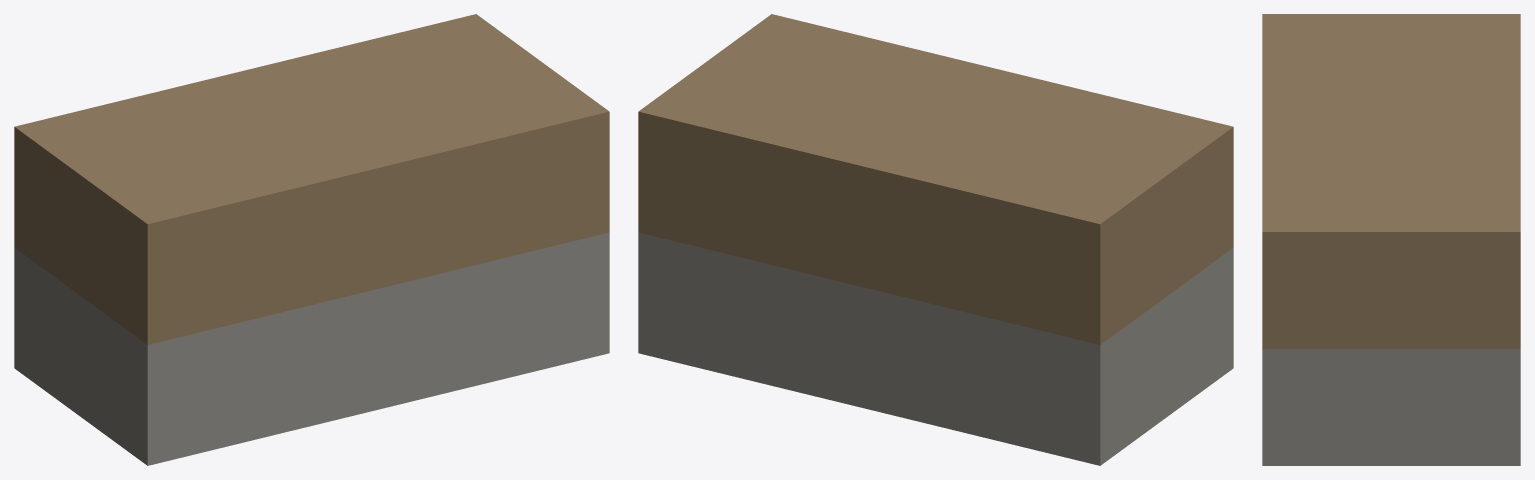
The model's file is tijeras_podar_01.glb.
3 views of the same model, side by side, from view 1: azimuth 30°, elevation 25°; view 2: azimuth 150°, elevation 25°; view 3: azimuth 270°, elevation 25° (orthographic). The views are drawn at different scales.
Visible parts, largest first — view 1: tijeras_podar; view 2: tijeras_podar; view 3: tijeras_podar.
Boxes of the visible parts, x1,y1,x2,y2 form: tijeras_podar: (14,14,609,465); tijeras_podar: (638,14,1233,465); tijeras_podar: (1262,14,1520,465).
Bounding box in the file's own units: 0.4 × 0.2 × 0.2.
